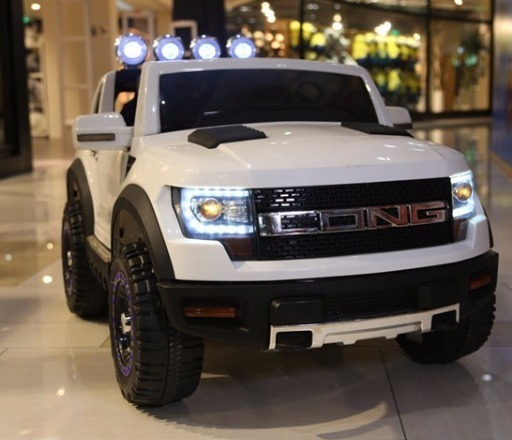car: (58, 34, 495, 406)
